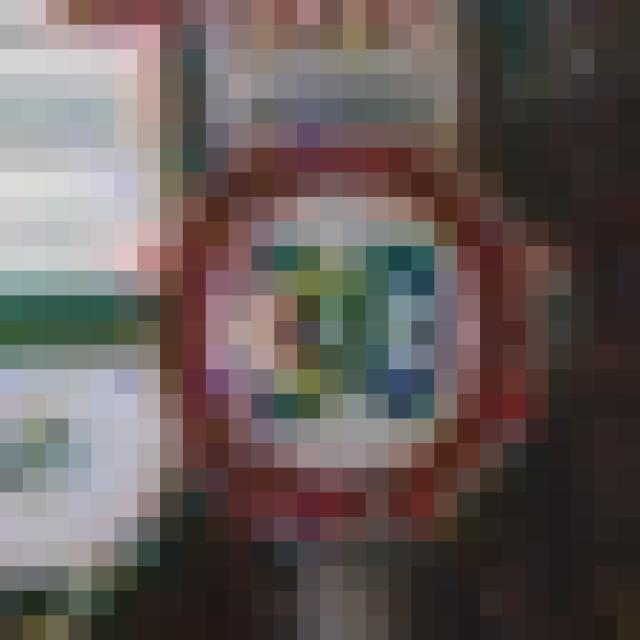Speed Limit -30-: (126, 110, 514, 504)
